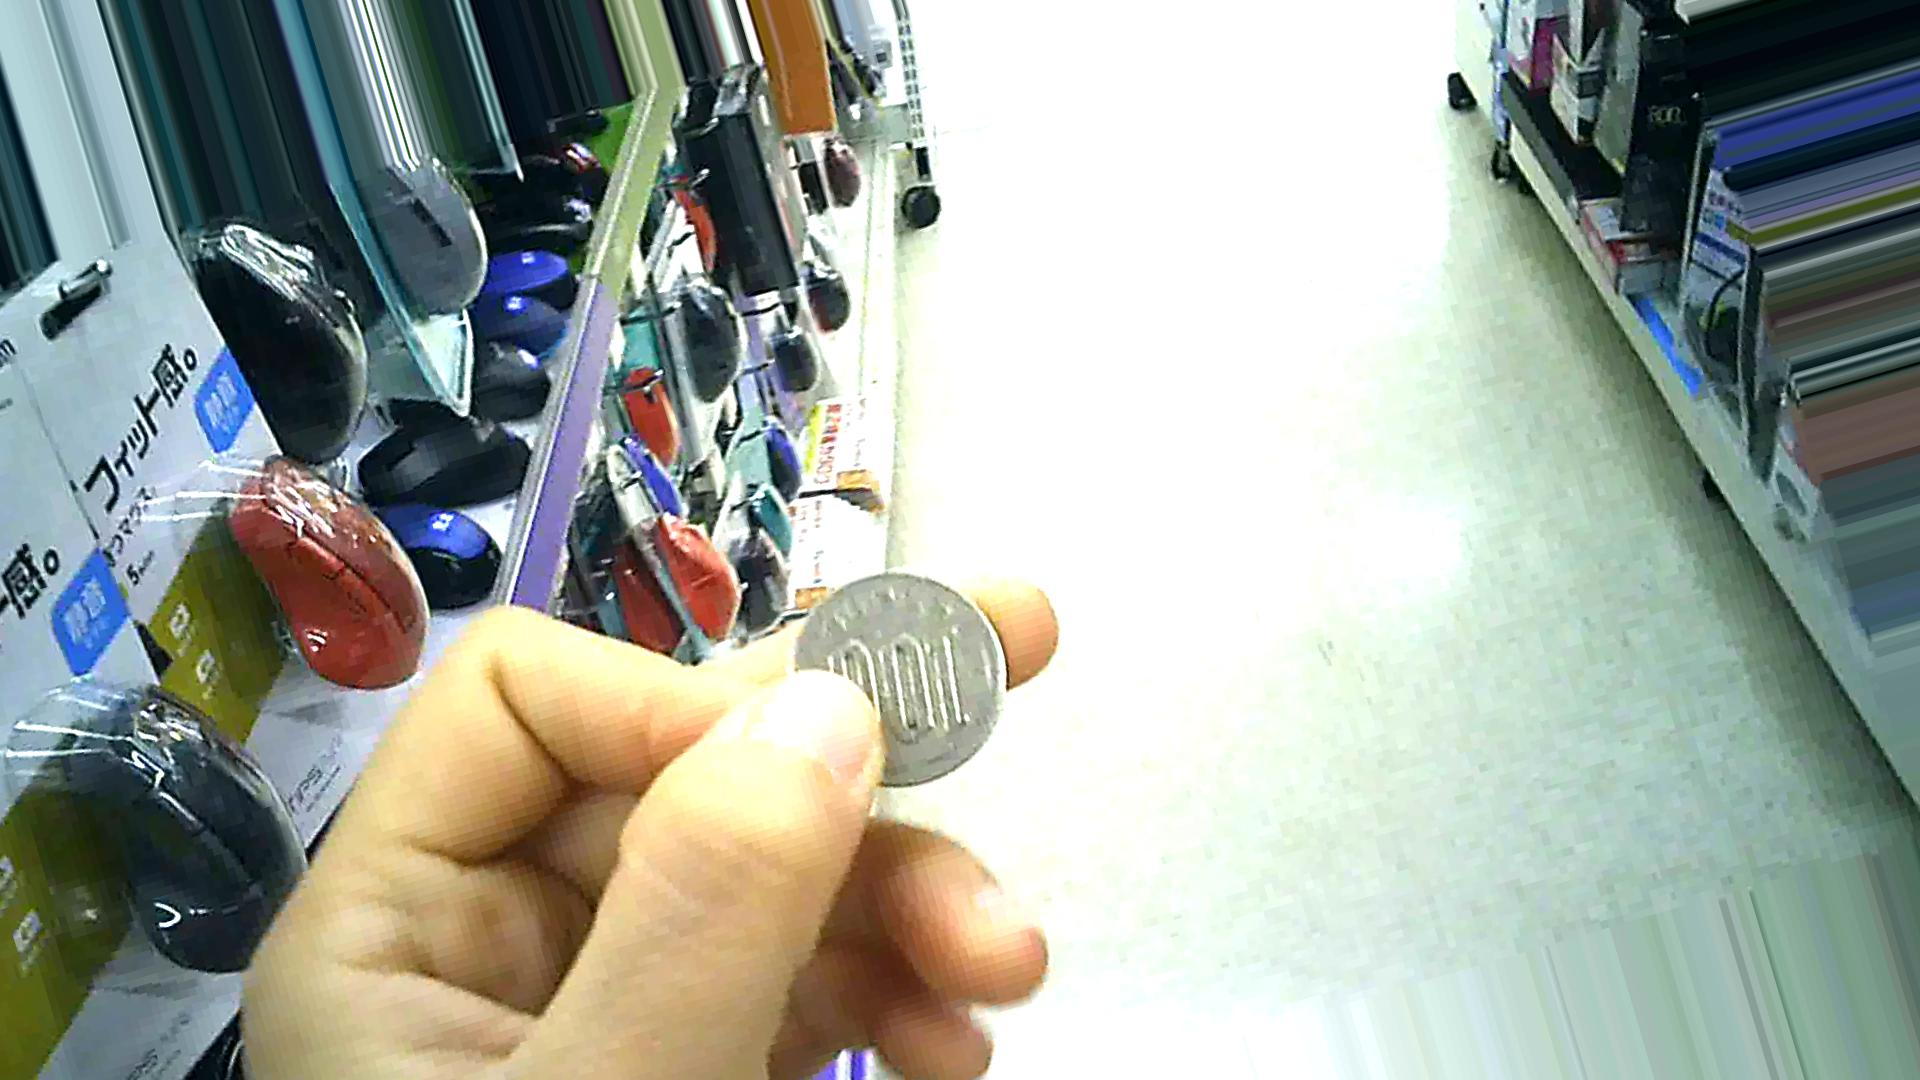100 Yen: (779, 574, 1011, 781)
